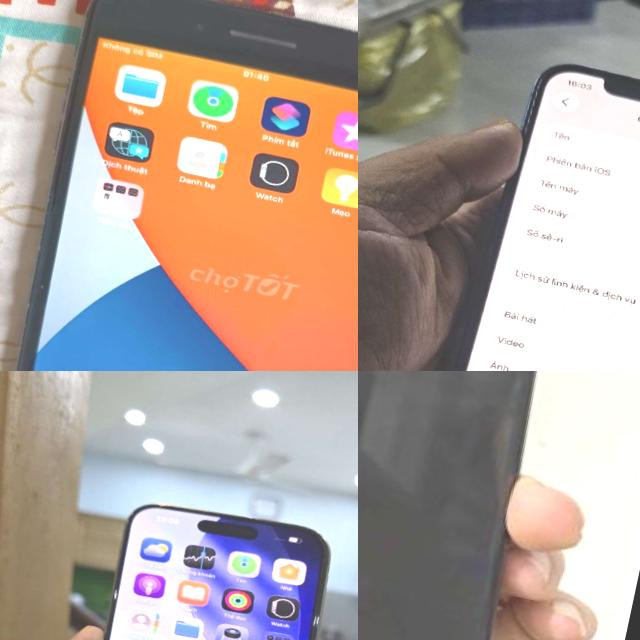gen_12_13: (426, 52, 640, 371)
gen_15: (53, 479, 358, 640)
gen_7_8: (0, 0, 358, 371), (358, 371, 622, 640)
scratch: (34, 276, 50, 294)
